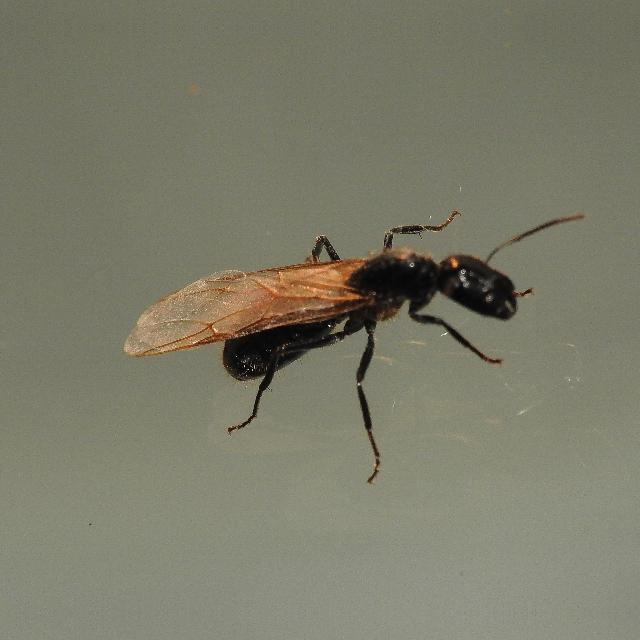Colobopsis: (142, 181, 574, 441)
